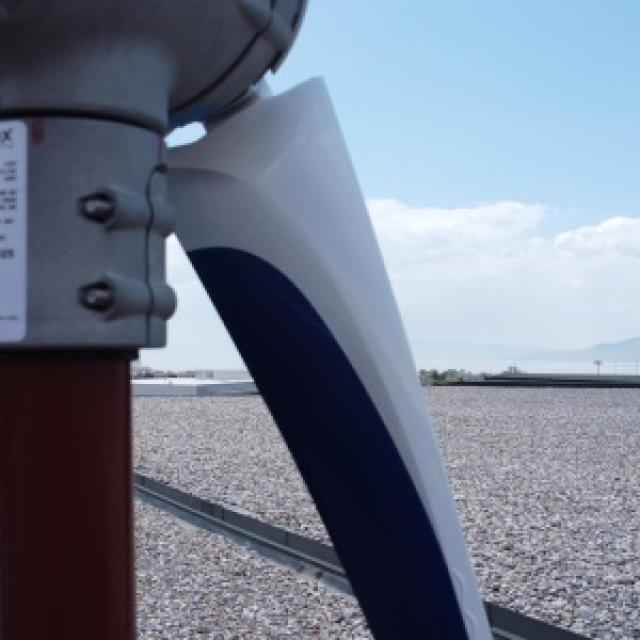healthy: (0, 0, 486, 638)
